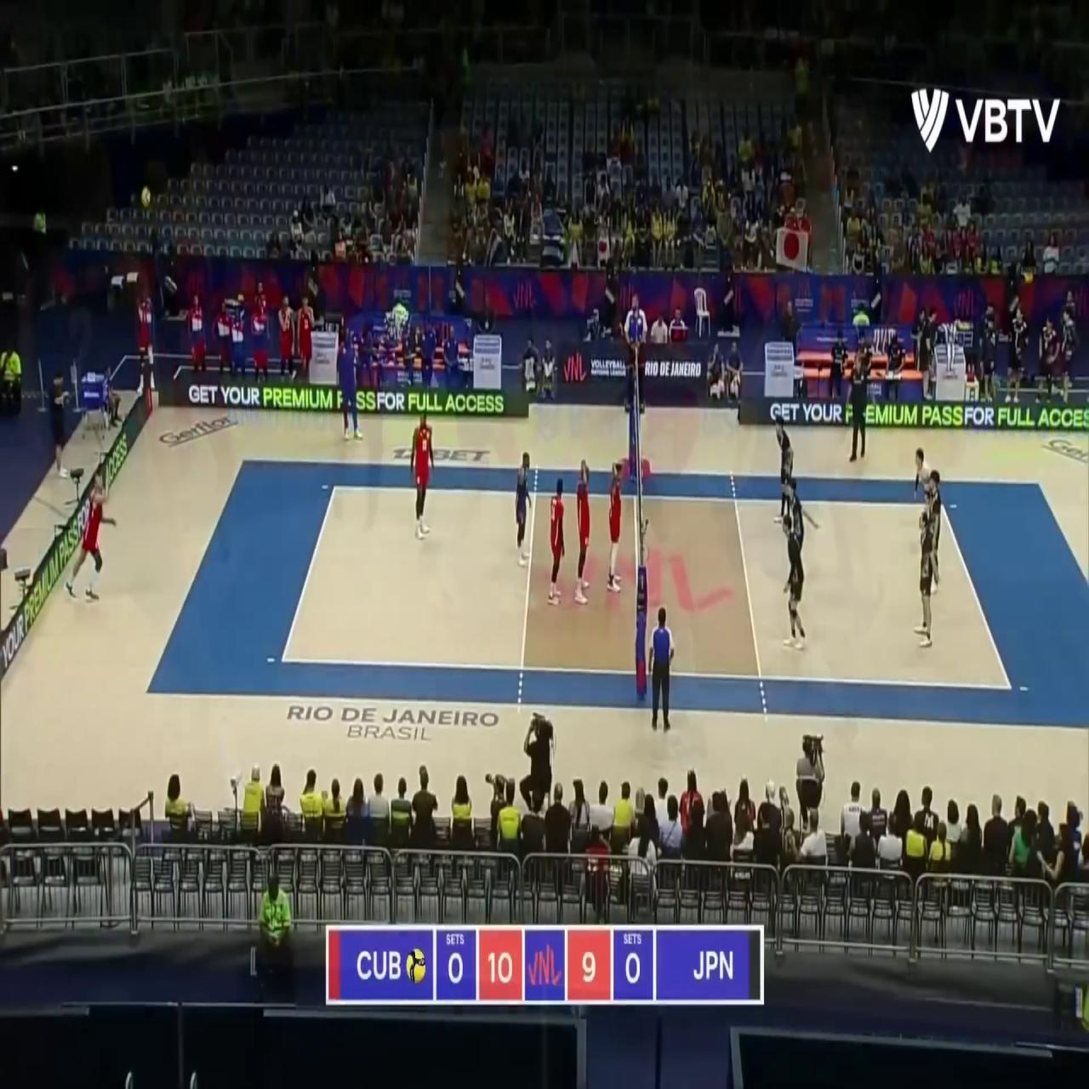ball: (143, 188, 151, 205)
